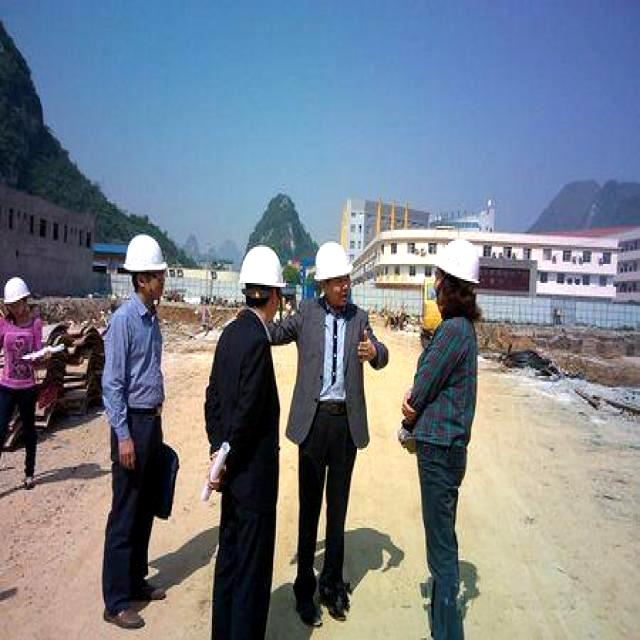hard_hat: (239, 245, 286, 291), (435, 239, 479, 285), (122, 234, 166, 273), (314, 241, 351, 281), (3, 277, 30, 304)
person: (284, 241, 387, 625), (398, 241, 478, 638), (203, 245, 283, 638), (102, 235, 165, 627), (0, 277, 43, 488)
